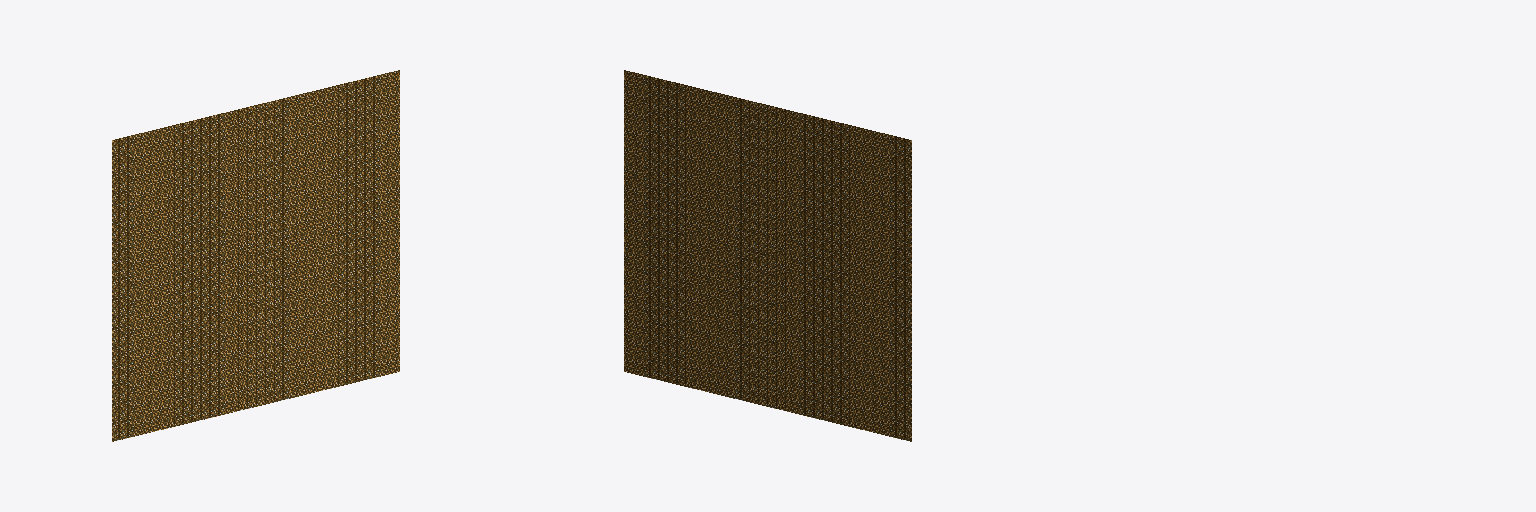
3 views of the same model, side by side, from view 1: azimuth 30°, elevation 25°; view 2: azimuth 150°, elevation 25°; view 3: azimuth 270°, elevation 25° (orthographic).
Visible parts, largest first — view 1: Glowstone_Cube.004; view 2: Glowstone_Cube.004; view 3: none.
Boxes of the visible parts, x1,y1,x2,y2 form: Glowstone_Cube.004: [112, 70, 399, 441]; Glowstone_Cube.004: [624, 70, 911, 441].
Bounding box in the file's own units: 32.24 × 32.24 × 0.
1 materials, 1 textured.